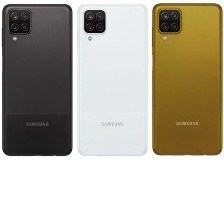phone: (72, 0, 150, 161), (0, 1, 75, 157), (151, 0, 224, 159)
